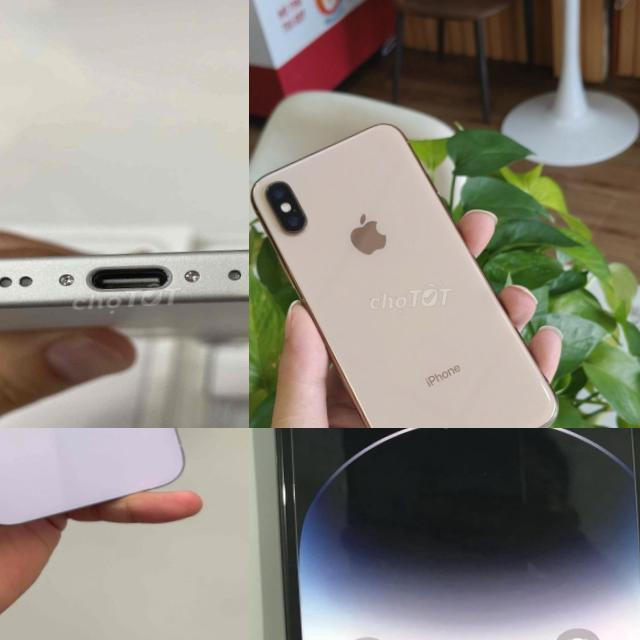gen_14: (0, 428, 192, 541)
gen_17: (0, 224, 249, 367)
gen_x_xs: (249, 113, 560, 428), (249, 428, 640, 640)
